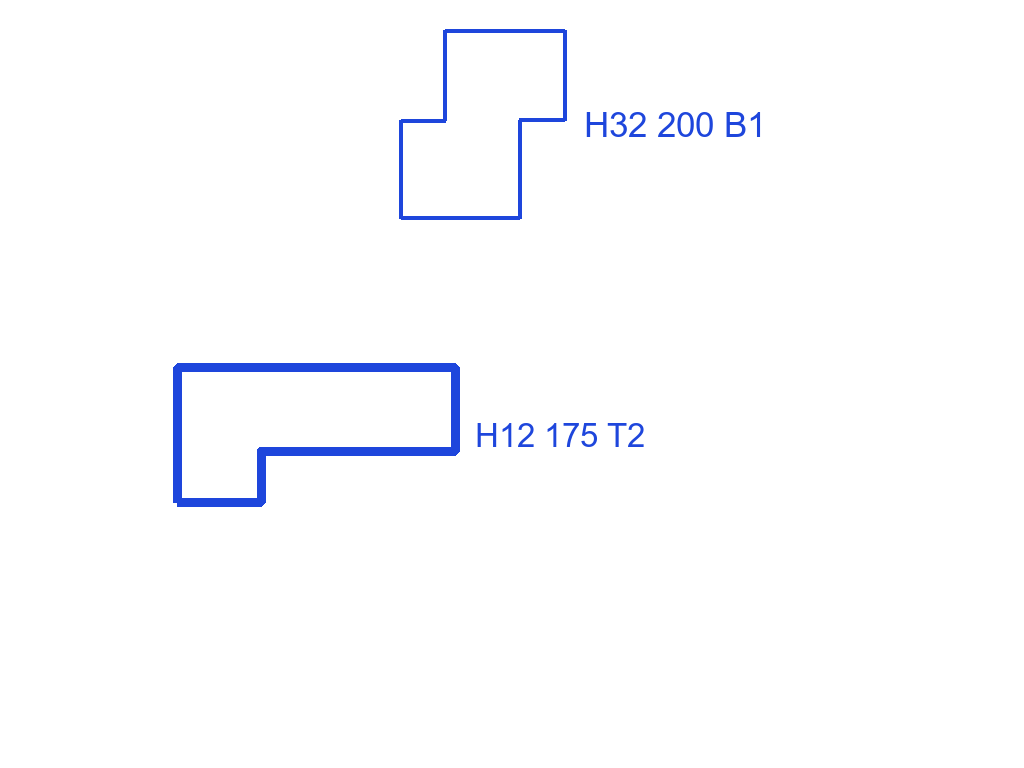shape: (171, 361, 462, 509), (398, 27, 568, 223)
text: (582, 110, 768, 139), (473, 421, 647, 449)
